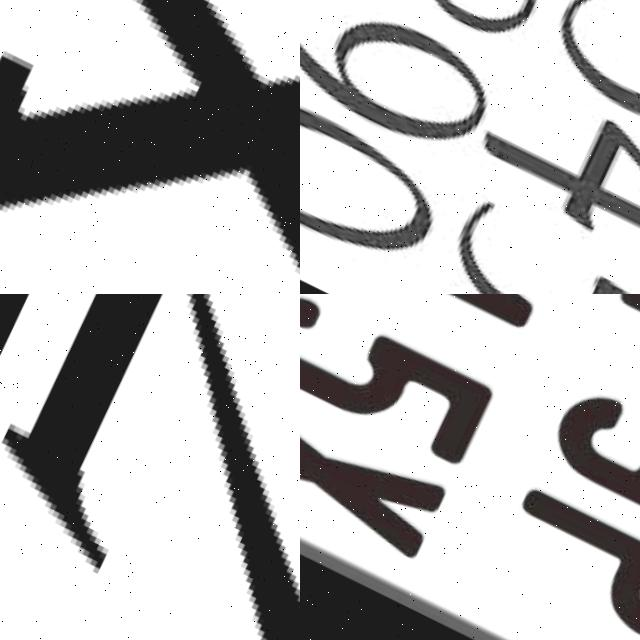0: (300, 65, 448, 278)
2: (0, 294, 300, 640)
3: (529, 0, 640, 185)
4: (459, 69, 640, 294)
5: (300, 294, 499, 472), (424, 195, 640, 294)
8: (300, 0, 556, 59)
9: (300, 0, 507, 168), (529, 374, 640, 576)
M: (300, 294, 561, 337)
P: (483, 481, 640, 640)
X: (0, 0, 300, 294), (300, 372, 446, 559)
